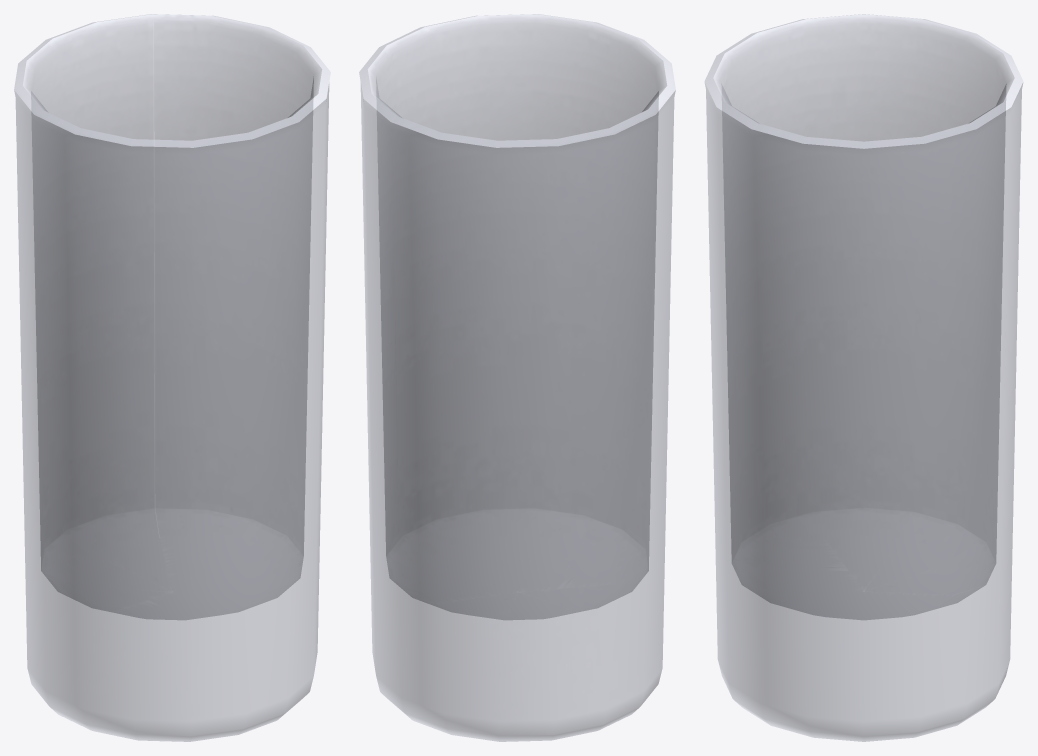
The model's file is SM_Water_Glass_01.glb.
The picture shows the model from 3 angles, left to right: view 1: azimuth 30°, elevation 25°; view 2: azimuth 150°, elevation 25°; view 3: azimuth 270°, elevation 25°; orthographic projection.
Parts seen in each view (by area): view 1: SM_Water_Glass_01; view 2: SM_Water_Glass_01; view 3: SM_Water_Glass_01.
Part boxes in pixels (x1,y1,x2,y2): SM_Water_Glass_01: (14,14,330,741); SM_Water_Glass_01: (359,14,675,741); SM_Water_Glass_01: (704,14,1023,741).
Size of the model in its own units: 0.0654 by 0.1375 by 0.0654.
1 material, 1 textured.
